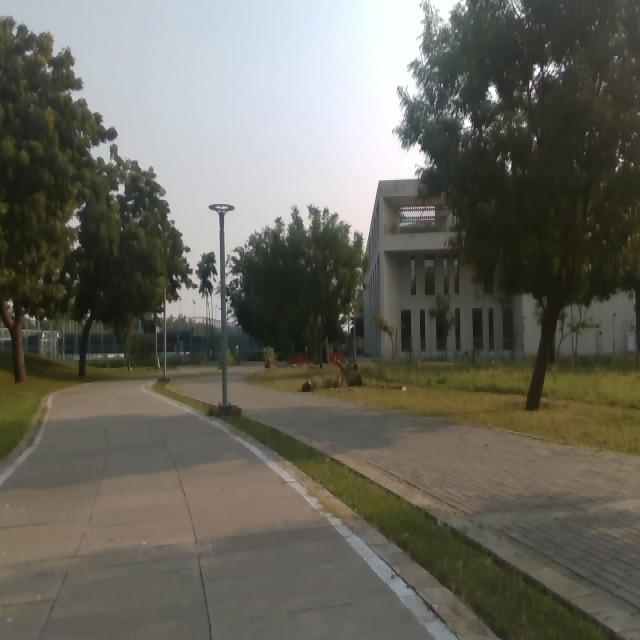lane: (1, 380, 434, 639)
